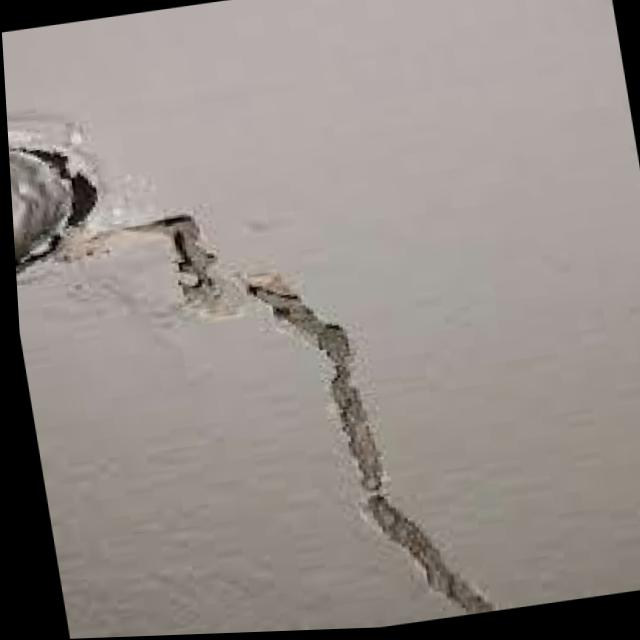Crack: (140, 179, 479, 636)
